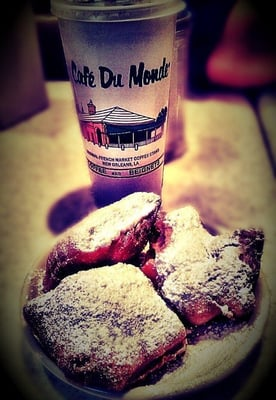burger: (51, 0, 189, 210)
curry: (1, 69, 275, 400)
sushi: (22, 195, 269, 400)
